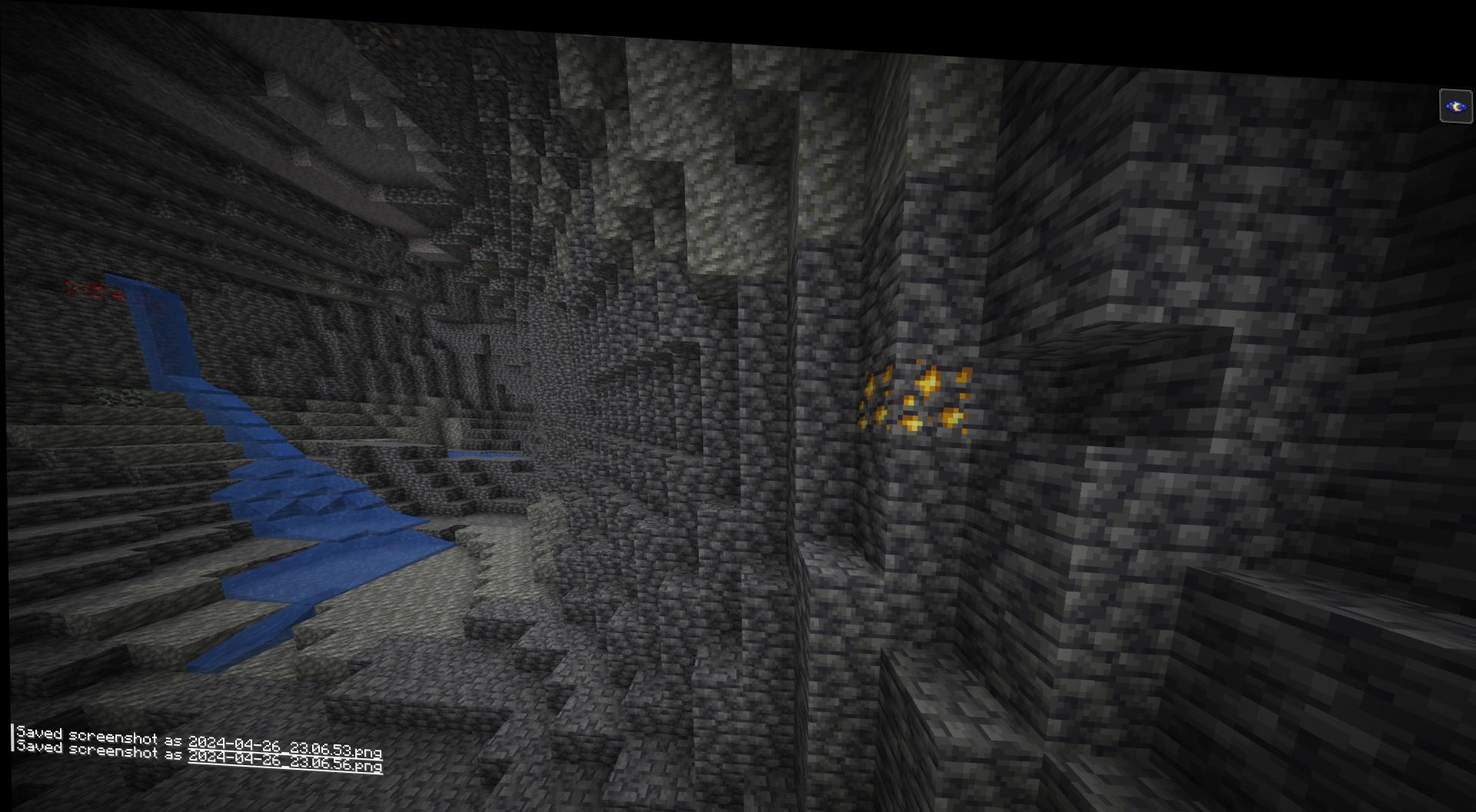gold ore: (900, 342, 976, 430), (853, 350, 898, 419)
redstone ore: (62, 273, 117, 304)
